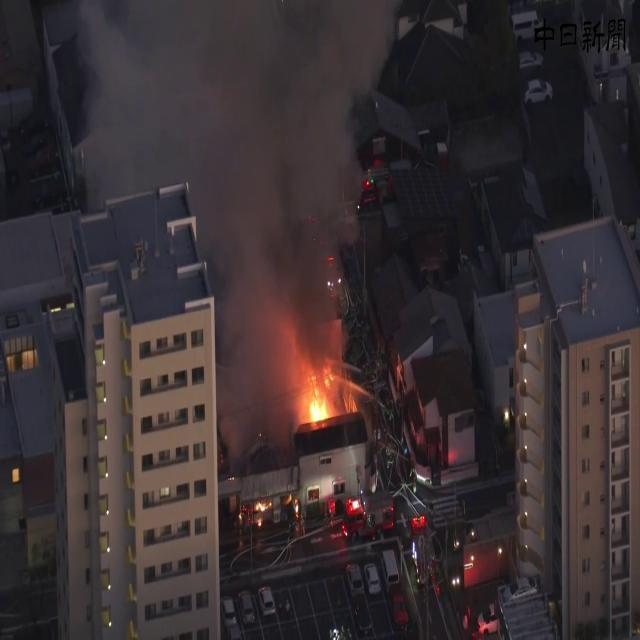Fire: (296, 365, 348, 429), (250, 494, 274, 529)
Smoke: (69, 0, 394, 359)
